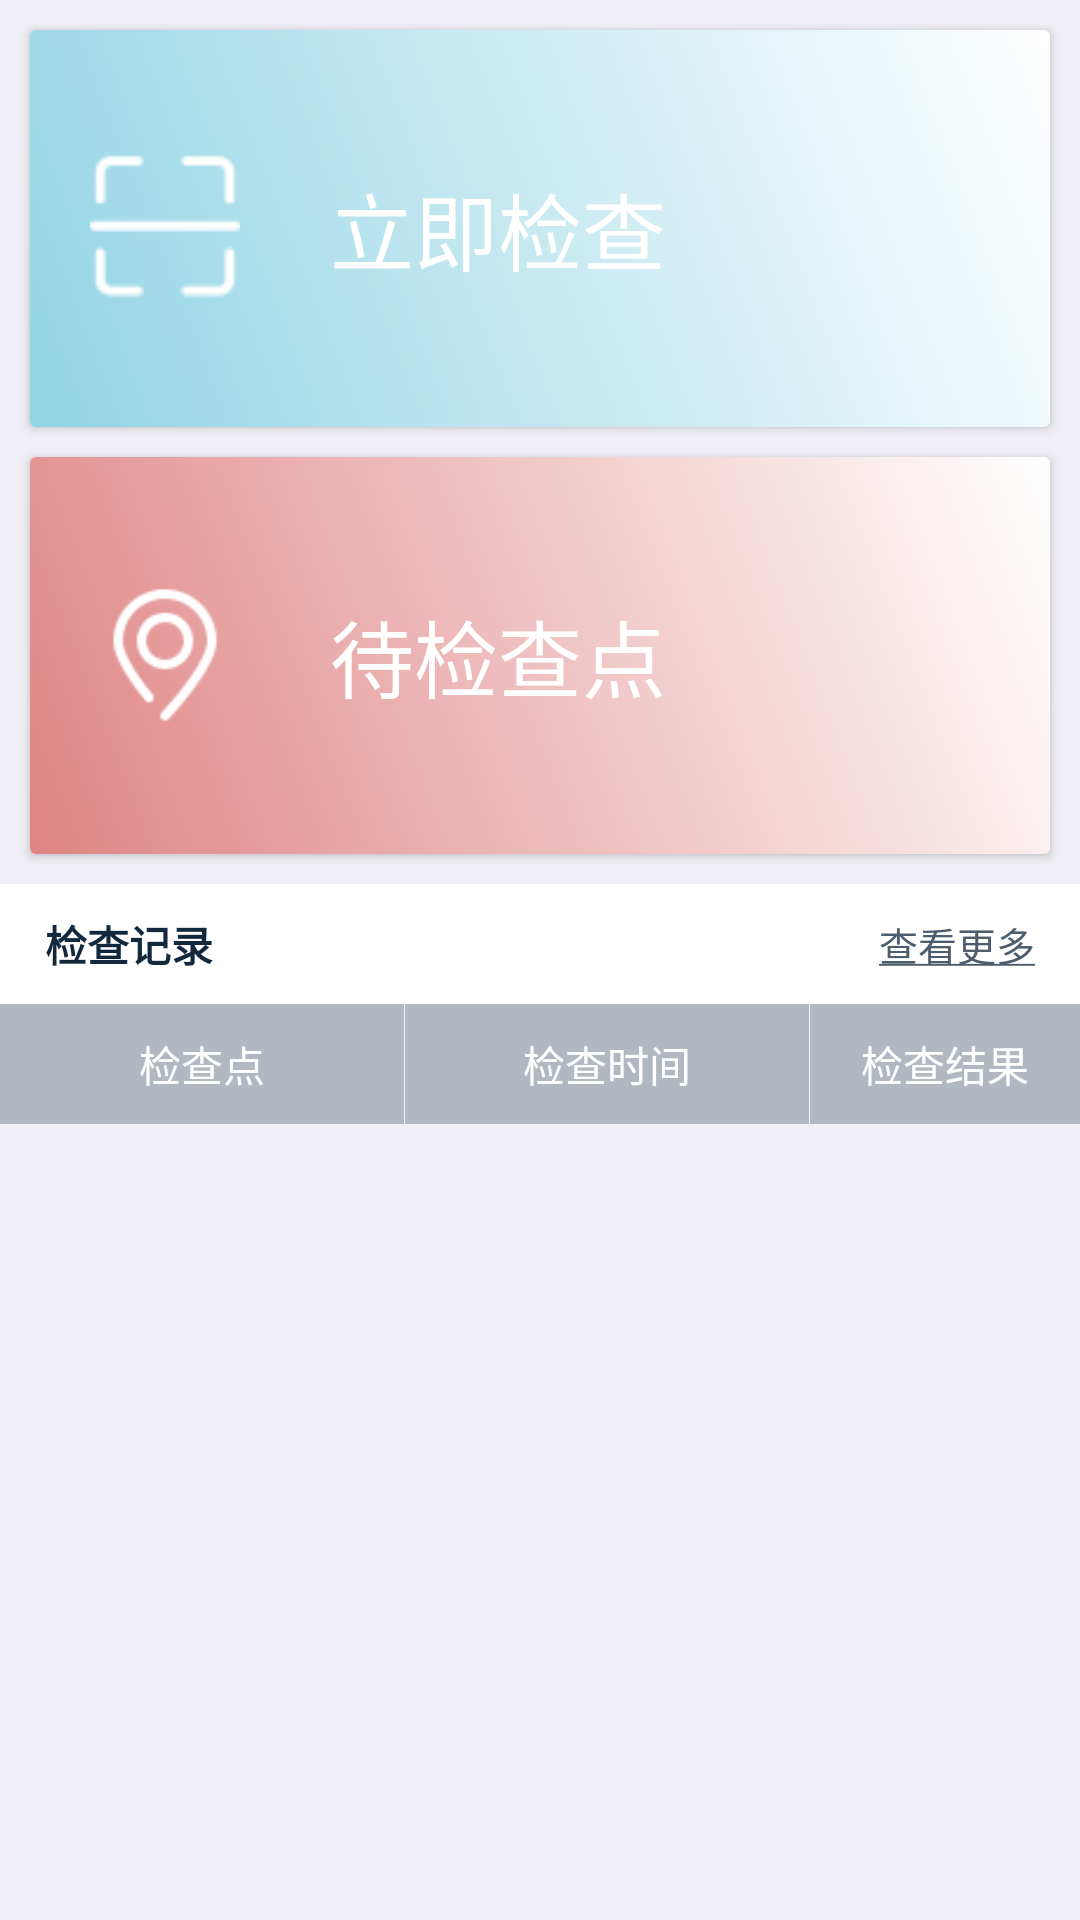

Where to tap for icons on this 1080 × 1920 app screen, as point (x, y):
location: point (165, 655)
scan: point (165, 226)
